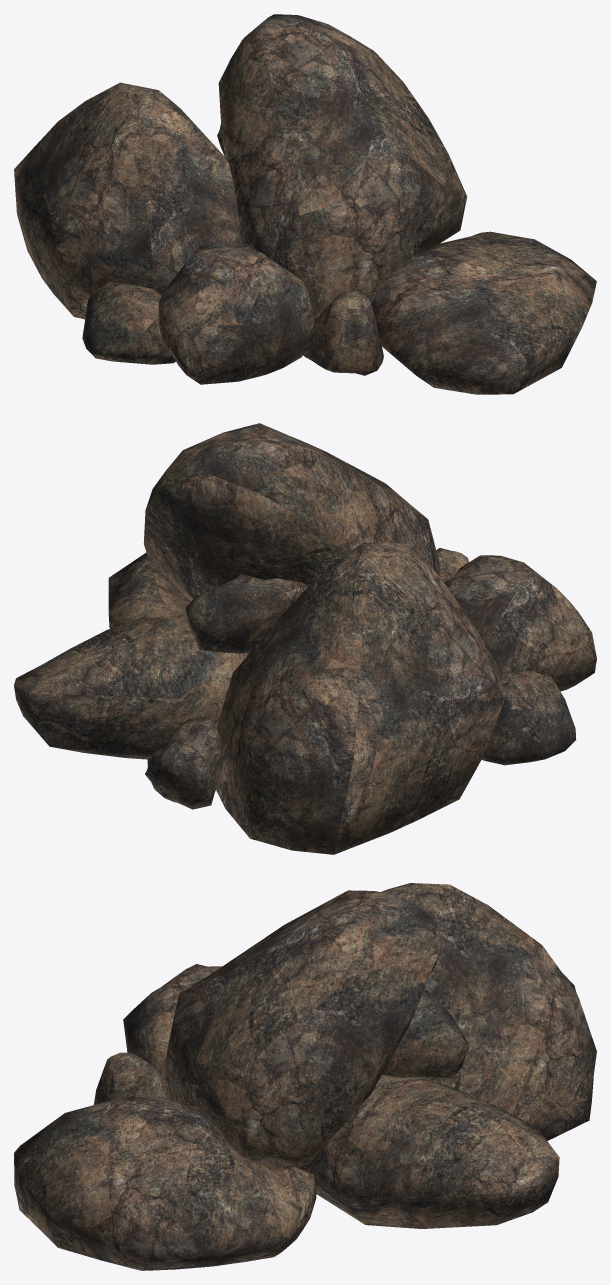
Rendered from stone3.fbx.
3 views of the same model, one above another, from view 1: azimuth 30°, elevation 25°; view 2: azimuth 150°, elevation 25°; view 3: azimuth 270°, elevation 25° (orthographic). The views are drawn at different scales.
Visible parts, largest first — view 1: stone_3.object; view 2: stone_3.object; view 3: stone_3.object.
Part boxes in pixels (box(x1,y1,x2,y2)): stone_3.object: box(14, 14, 596, 394); stone_3.object: box(14, 423, 596, 854); stone_3.object: box(14, 883, 596, 1270).
Size of the model in its own units: 1126 by 673 by 1196.
